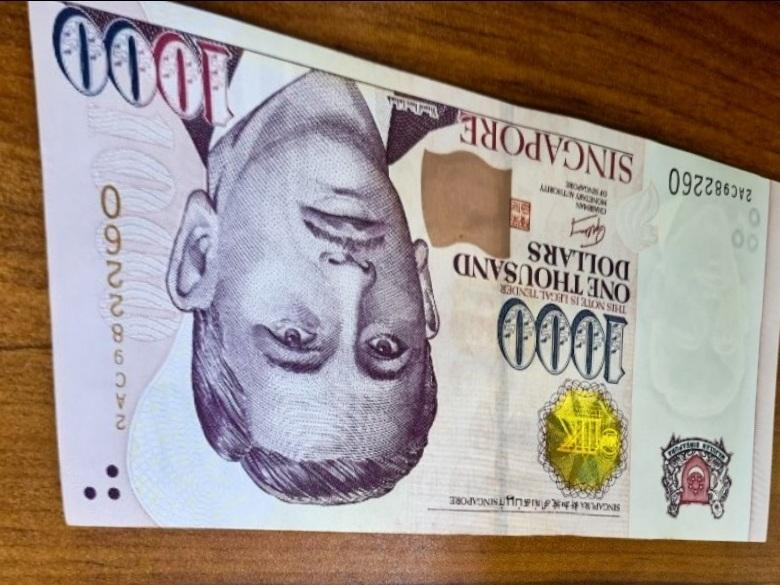1000SingaporeDollar: (56, 9, 770, 518)
